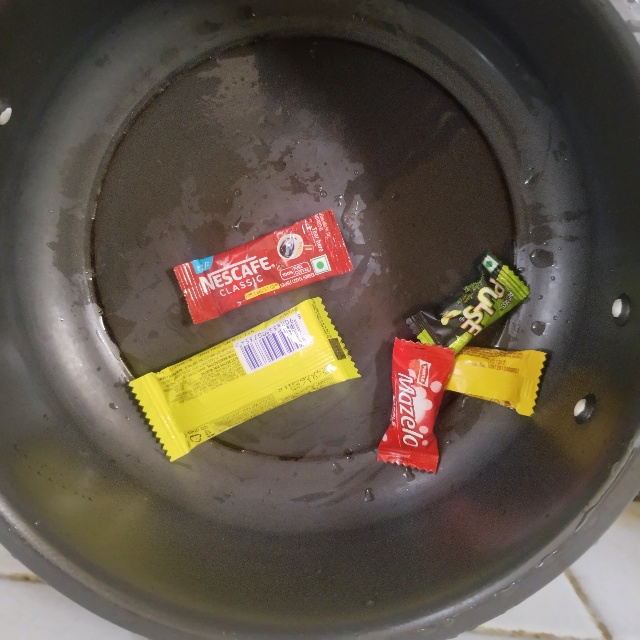Alpenlibe Creamfills: (458, 334, 552, 400)
Mazelo: (399, 335, 456, 471)
Nescafe Coffee: (169, 269, 348, 332)
Orbit: (124, 379, 340, 474)
Pulse: (403, 326, 520, 387)
